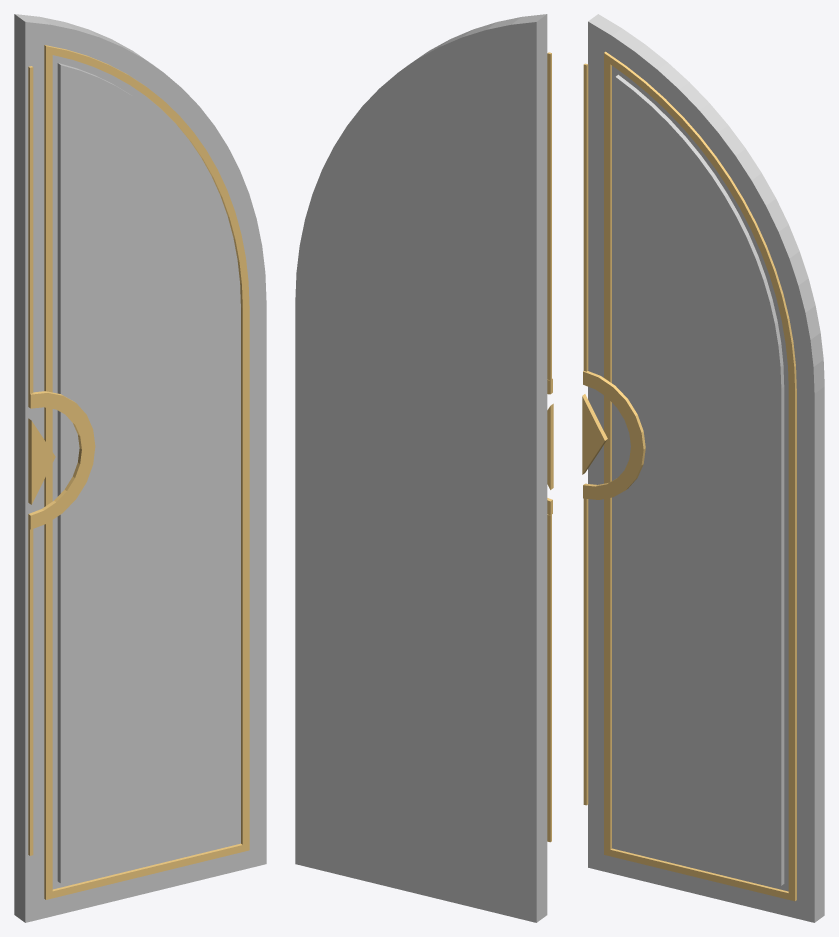
File: door_leaf_R.gltf
The picture shows the model from 3 angles, left to right: view 1: azimuth 30°, elevation 25°; view 2: azimuth 150°, elevation 25°; view 3: azimuth 330°, elevation 25°; orthographic projection. The views are drawn at different scales.
Parts seen in each view (by area): view 1: door_leaf_R; view 2: door_leaf_R; view 3: door_leaf_R.
Boxes of the visible parts, bbox=[...] form: door_leaf_R: bbox=[14, 14, 266, 922]; door_leaf_R: bbox=[295, 14, 553, 922]; door_leaf_R: bbox=[582, 14, 824, 922].
Size of the model in its own units: 0.896 by 3.2 by 0.11.
